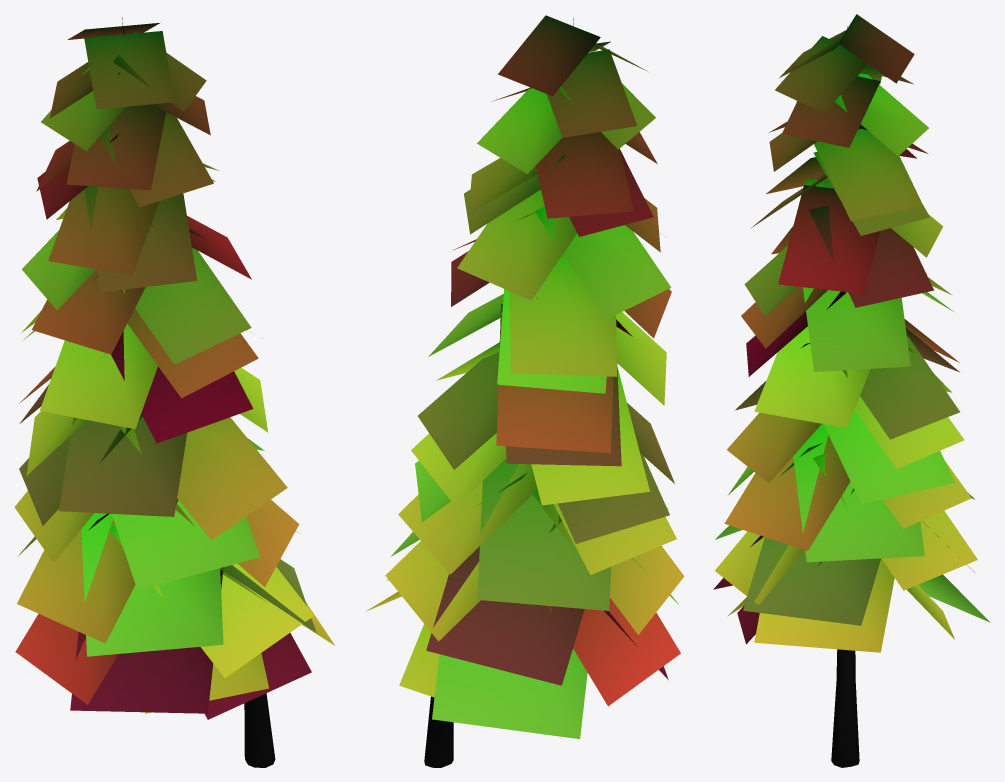
The model's file is Tree_10.fbx.
3 renders of one model, left to right at view 1: azimuth 30°, elevation 25°; view 2: azimuth 150°, elevation 25°; view 3: azimuth 270°, elevation 25°, orthographic. The views are drawn at different scales.
Visible parts, largest first — view 1: Tree_10; view 2: Tree_10; view 3: Tree_10.
Part boxes in pixels (x1,y1,x2,y2): Tree_10: (14, 17, 334, 767); Tree_10: (365, 15, 684, 767); Tree_10: (713, 14, 990, 767).
Bounding box in the file's own units: 752 × 2019 × 741.
